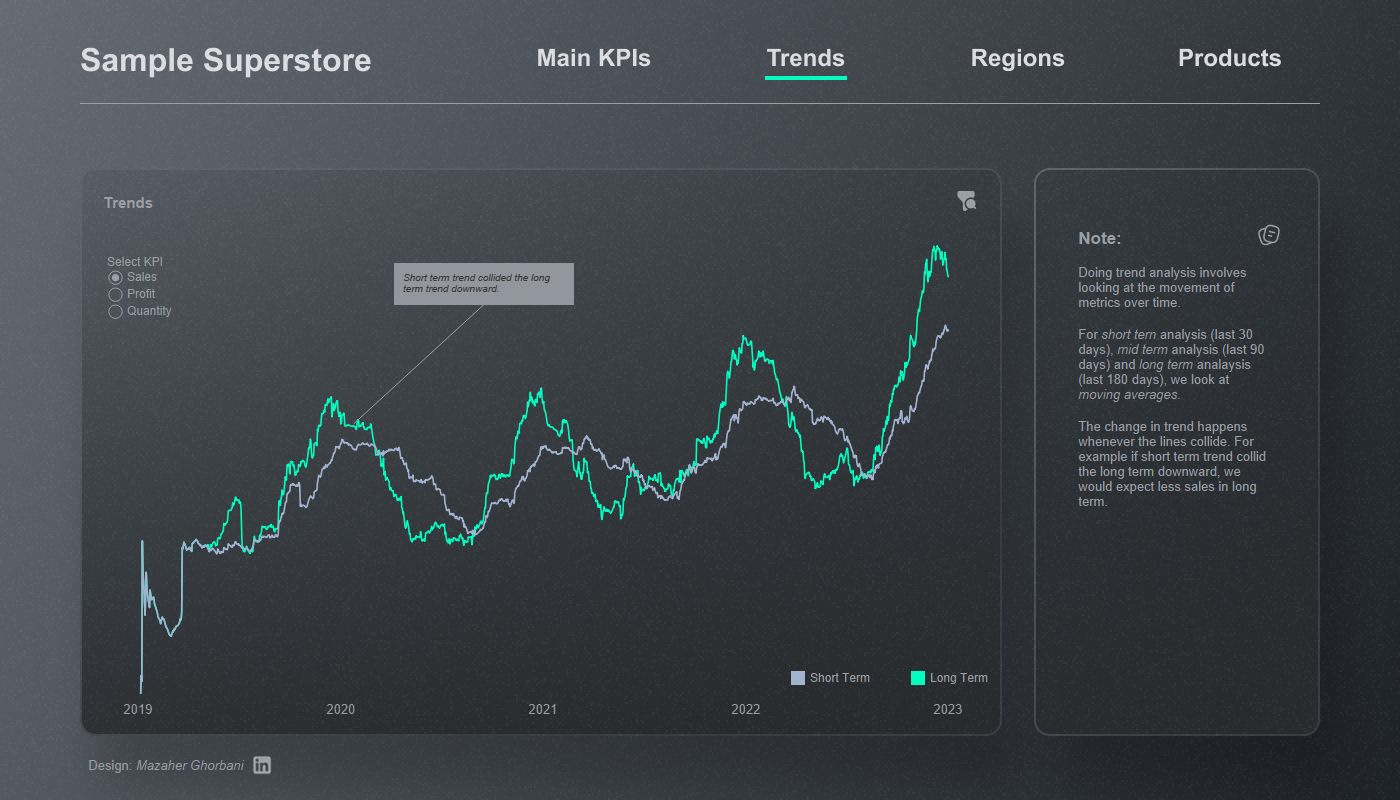

This screenshot's page, from the dashboard's own definition file:
{"tool":"tableau","page":{"name":"Trend Analysis","canvas":[1400,800],"ordinal":3},"visuals":[{"type":"image","param":"Image/Trend Analysis.png","box":[0,0,1400,800]},{"type":"dashboard-object","box":[1160,136,24,24]},{"type":"worksheet","title":"Reset Filters","mark":"Shape","cols":["Calculation_707909609538879489"],"box":[1216,136,24,24]},{"type":"dashboard-object","box":[1272,136,24,24]},{"type":"filter","title":"Trend","param":"[federated.0edz2lz09zrftf18khcru1ptet20].[yr:Order Date:ok]","box":[1120,181,174,54]},{"type":"dashboard-object","box":[64,200,100,64]},{"type":"worksheet","title":"Trend","mark":"Automatic","cols":["Order Date"],"box":[217,211,776,475]},{"type":"text","box":[1075,219,202,303]},{"type":"filter","title":"Trend","param":"[federated.0edz2lz09zrftf18khcru1ptet20].[none:Category:nk]","box":[1120,235,174,54]},{"type":"parameter","param":"[Parameters].[Parameter 1]","box":[228,255,137,40]},{"type":"dashboard-object","box":[64,264,100,64]},{"type":"legend","title":"Trend","param":"[federated.0edz2lz09zrftf18khcru1ptet20].[:Measure Names]","box":[421,270,375,24]},{"type":"filter","title":"Trend","param":"[federated.0edz2lz09zrftf18khcru1ptet20].[none:Sub-Category:nk]","box":[1120,289,174,54]},{"type":"dashboard-object","box":[64,328,100,64]},{"type":"filter","title":"Trend","param":"[federated.0edz2lz09zrftf18khcru1ptet20].[none:State/Province:nk]","box":[1120,343,174,54]},{"type":"dashboard-object","box":[64,392,100,64]},{"type":"filter","title":"Trend","param":"[federated.0edz2lz09zrftf18khcru1ptet20].[none:City:nk]","box":[1120,397,174,54]},{"type":"filter","title":"Trend","param":"[federated.0edz2lz09zrftf18khcru1ptet20].[none:Segment:nk]","box":[1120,451,174,54]},{"type":"dashboard-object","box":[64,456,100,64]}]}

Visuals, with their boxes in screenshot pixels (x1, y1, x2, y2), scaled from the page's 1400x800 canvas onto the 1400x800 screenshot:
image: 0, 0, 1399, 799
dashboard-object: 1160, 136, 1184, 160
"Reset Filters" worksheet (Shape marks): 1216, 136, 1240, 160
dashboard-object: 1272, 136, 1296, 160
"Trend" filter: 1120, 181, 1294, 235
dashboard-object: 64, 200, 164, 264
"Trend" worksheet: 217, 211, 993, 686
text: 1075, 219, 1277, 522
"Trend" filter: 1120, 235, 1294, 289
parameter: 228, 255, 365, 295
dashboard-object: 64, 264, 164, 328
"Trend" legend: 421, 270, 796, 294
"Trend" filter: 1120, 289, 1294, 343
dashboard-object: 64, 328, 164, 392
"Trend" filter: 1120, 343, 1294, 397
dashboard-object: 64, 392, 164, 456
"Trend" filter: 1120, 397, 1294, 451
"Trend" filter: 1120, 451, 1294, 505
dashboard-object: 64, 456, 164, 520
